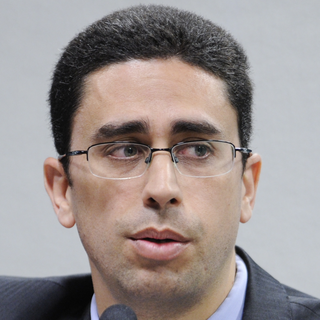eye: (174, 134, 216, 162), (101, 138, 147, 162)
